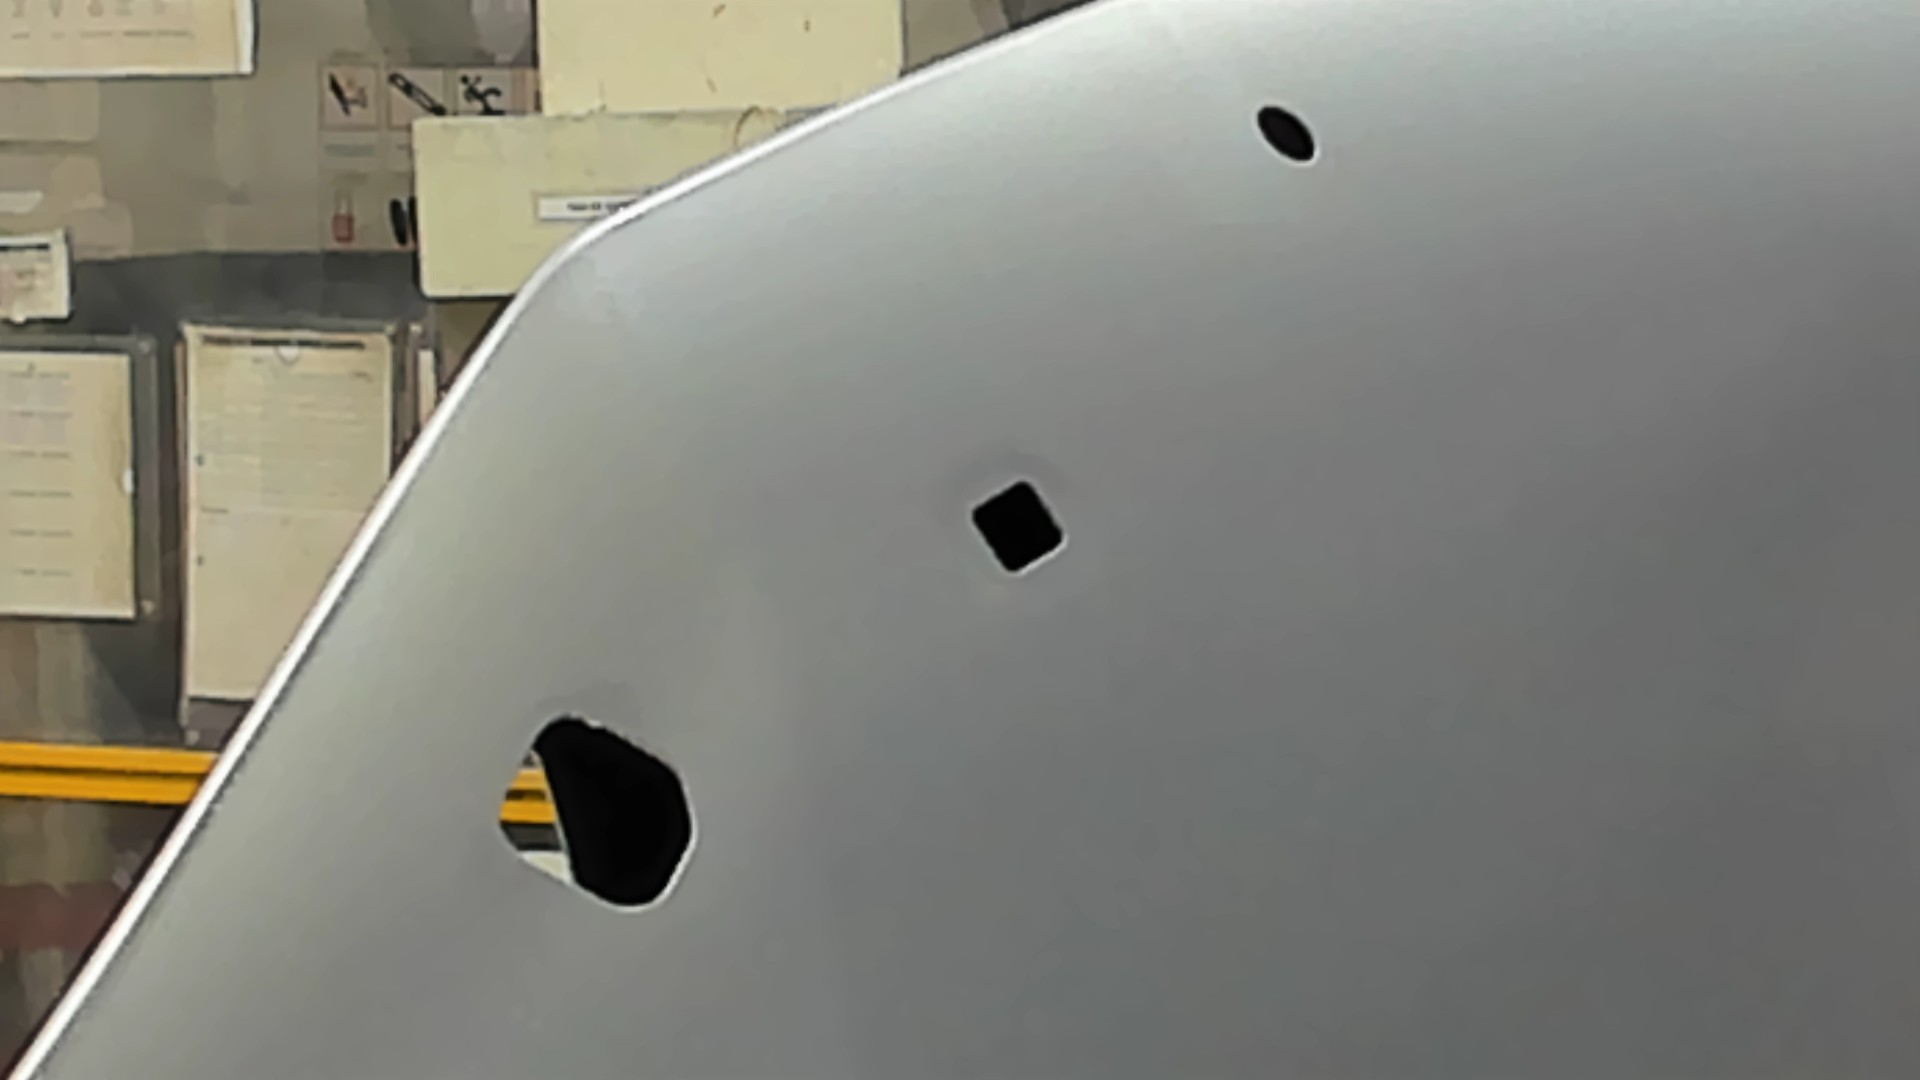chico: (1254, 102, 1317, 165)
grande: (493, 709, 700, 914)
mediano: (965, 476, 1069, 576)
